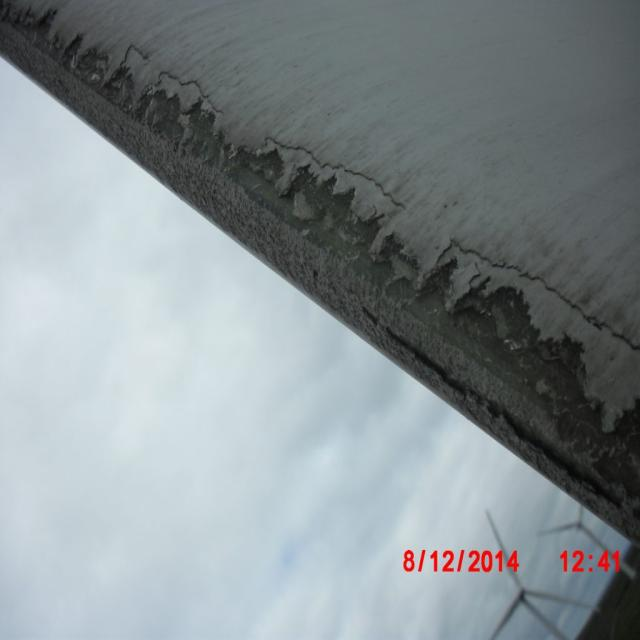Erosion: (0, 1, 640, 550)
